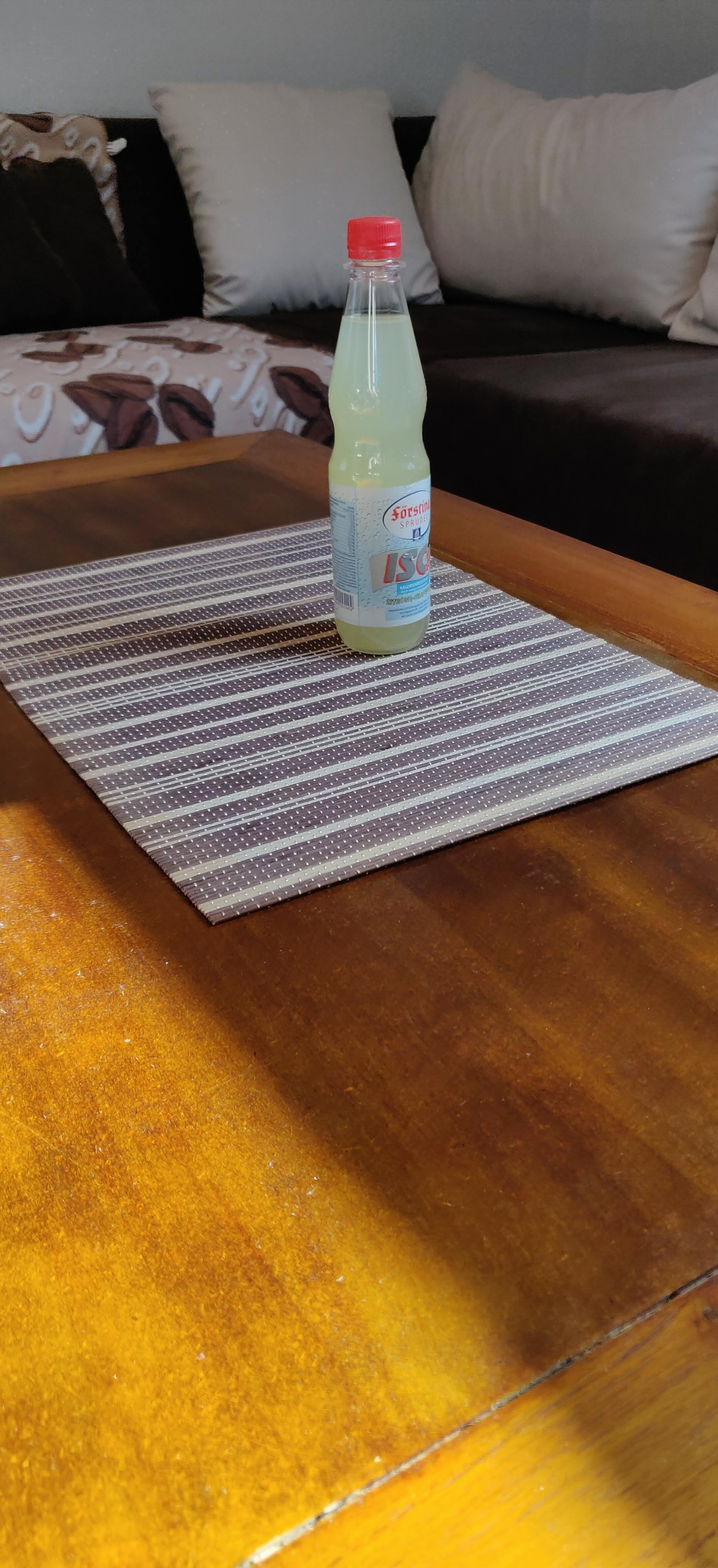bottle-plastic: (324, 207, 435, 655)
